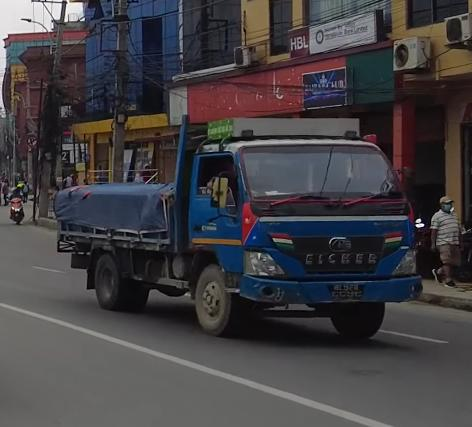mini_truck: (46, 124, 424, 344)
scooter: (9, 191, 24, 219)
